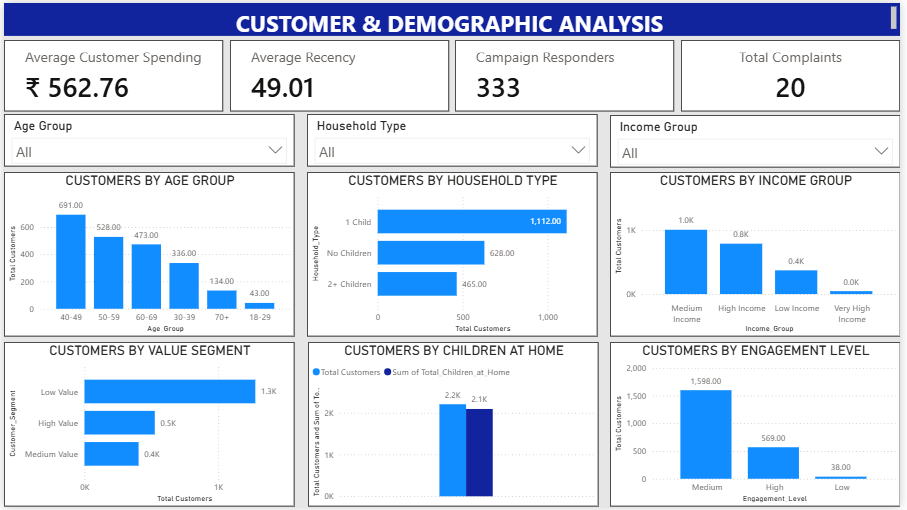

The page's visual inventory and layout, read from the dashboard file:
{"tool":"powerbi","page":{"name":"FOOD MARKETING ANALYTICS - CUSTOMER DEMOGRAPHICS","canvas":[1280,720],"ordinal":1},"visuals":[{"type":"textbox","box":[0,0,1280,47.1],"z":0},{"type":"cardVisual","fields":{"Data":["Food_Marketing_Analytics.Average Customer Spend"]},"box":[0,53,313.4,101.5],"z":1},{"type":"cardVisual","fields":{"Data":["Food_Marketing_Analytics.Average Recency"]},"box":[322.2,53,313.4,101.5],"z":2},{"type":"cardVisual","fields":{"Data":["Food_Marketing_Analytics.Total Complaints"]},"box":[966.6,53,313.4,101.5],"z":3},{"type":"cardVisual","fields":{"Data":["Food_Marketing_Analytics.Campaign Responders"]},"box":[644.4,53,313.4,101.5],"z":4},{"type":"clusteredColumnChart","title":"CUSTOMERS BY AGE GROUP","fields":{"Category":["Food_Marketing_Analytics.Age_Group"],"Y":["Food_Marketing_Analytics.Total Customers"]},"box":[0,241.3,414.9,235.4],"z":5},{"type":"clusteredBarChart","title":"CUSTOMERS BY HOUSEHOLD TYPE","fields":{"Y":["Food_Marketing_Analytics.Total Customers"],"Category":["Food_Marketing_Analytics.Household_Type"]},"box":[432.6,241.3,414.9,235.4],"z":6},{"type":"clusteredColumnChart","title":"CUSTOMERS BY INCOME GROUP","fields":{"Category":["Food_Marketing_Analytics.Income_Group"],"Y":["Food_Marketing_Analytics.Total Customers"]},"box":[865.1,241.3,414.9,235.4],"z":7},{"type":"clusteredBarChart","title":"CUSTOMERS BY VALUE SEGMENT","fields":{"Y":["Food_Marketing_Analytics.Total Customers"],"Category":["Food_Marketing_Analytics.Customer_Segment"]},"box":[0,484,414.9,235.4],"z":8},{"type":"clusteredColumnChart","title":"CUSTOMERS BY CHILDREN AT HOME","fields":{"Y":["Food_Marketing_Analytics.Total Customers","Sum(Food_Marketing_Analytics.Total_Children_at_Home)"]},"box":[434,484,414.9,235.4],"z":9},{"type":"clusteredColumnChart","title":"CUSTOMERS BY ENGAGEMENT LEVEL","fields":{"Y":["Food_Marketing_Analytics.Total Customers"],"Category":["Food_Marketing_Analytics.Engagement_Level"]},"box":[865.1,484,414.9,235.4],"z":10},{"type":"slicer","fields":{"Values":["Food_Marketing_Analytics.Age_Group"]},"box":[0,158.9,414.9,75],"z":11},{"type":"slicer","fields":{"Values":["Food_Marketing_Analytics.Household_Type"]},"box":[432.6,158.9,414.9,75],"z":12},{"type":"slicer","fields":{"Values":["Food_Marketing_Analytics.Income_Group"]},"box":[865.1,160.4,414.9,75],"z":13}]}

Visuals, with their boxes in screenshot pixels (x1, y1, x2, y2), scaled from the page's 1280x720 canvas onto the 907x510 screenshot:
textbox: bbox(0, 0, 906, 33)
cardVisual - Food_Marketing_Analytics.Average Customer Spend: bbox(0, 38, 222, 109)
cardVisual - Food_Marketing_Analytics.Average Recency: bbox(228, 38, 450, 109)
cardVisual - Food_Marketing_Analytics.Total Complaints: bbox(685, 38, 906, 109)
cardVisual - Food_Marketing_Analytics.Campaign Responders: bbox(457, 38, 679, 109)
"CUSTOMERS BY AGE GROUP" clusteredColumnChart: bbox(0, 171, 294, 338)
"CUSTOMERS BY HOUSEHOLD TYPE" clusteredBarChart: bbox(307, 171, 601, 338)
"CUSTOMERS BY INCOME GROUP" clusteredColumnChart: bbox(613, 171, 906, 338)
"CUSTOMERS BY VALUE SEGMENT" clusteredBarChart: bbox(0, 343, 294, 509)
"CUSTOMERS BY CHILDREN AT HOME" clusteredColumnChart: bbox(308, 343, 602, 509)
"CUSTOMERS BY ENGAGEMENT LEVEL" clusteredColumnChart: bbox(613, 343, 906, 509)
slicer - Food_Marketing_Analytics.Age_Group: bbox(0, 113, 294, 166)
slicer - Food_Marketing_Analytics.Household_Type: bbox(307, 113, 601, 166)
slicer - Food_Marketing_Analytics.Income_Group: bbox(613, 114, 906, 167)
